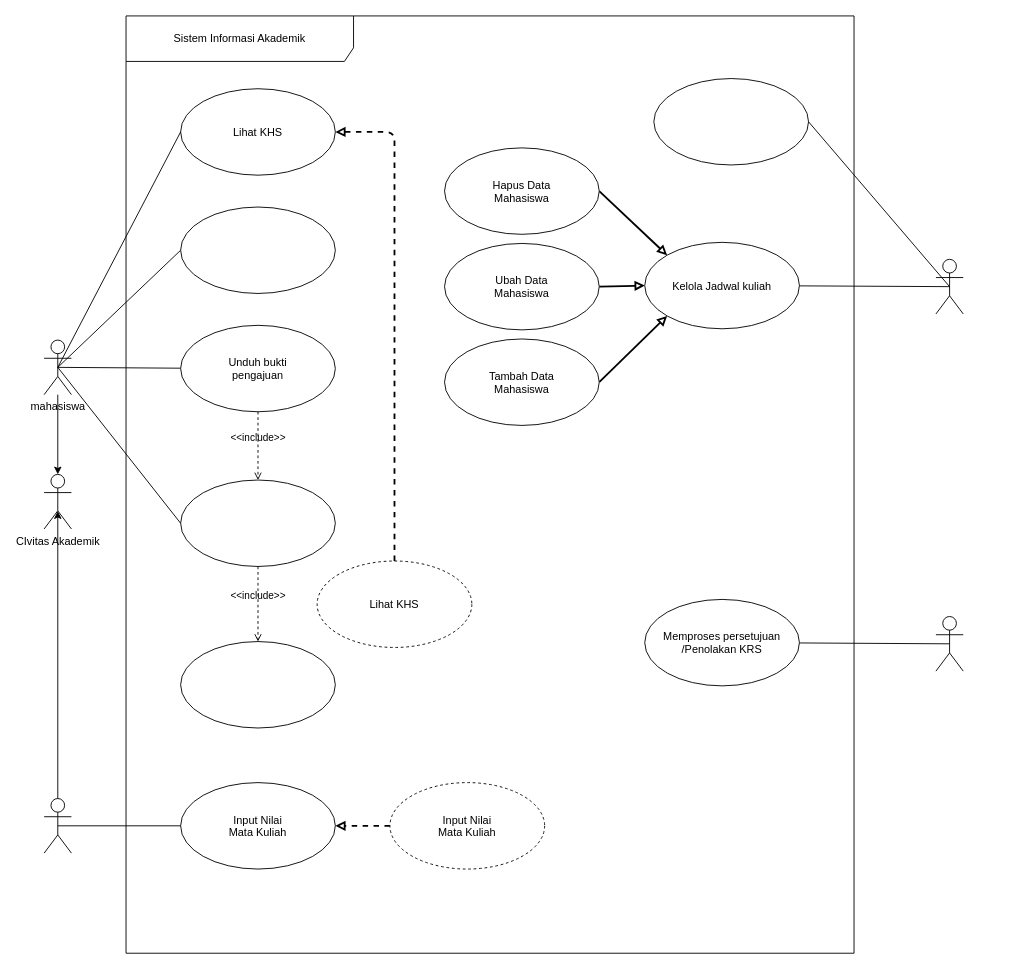
The diagram is 1013 pixels wide and 969 high, and some of its shapes have lost their labels. The box of each missing label's shape, as (x1, y1, x2, y2) in pixels:
Ajukan KRS: (180, 479, 335, 566)
Dosen: (43, 798, 71, 853)
Kelola Data Mahasiswa: (653, 78, 809, 165)
kepala laboratorium: (935, 616, 963, 671)
Lihat Jadwal Kuliah: (180, 206, 335, 293)
petugas laboratium: (935, 258, 963, 314)
Validasi KRS: (180, 641, 335, 728)
